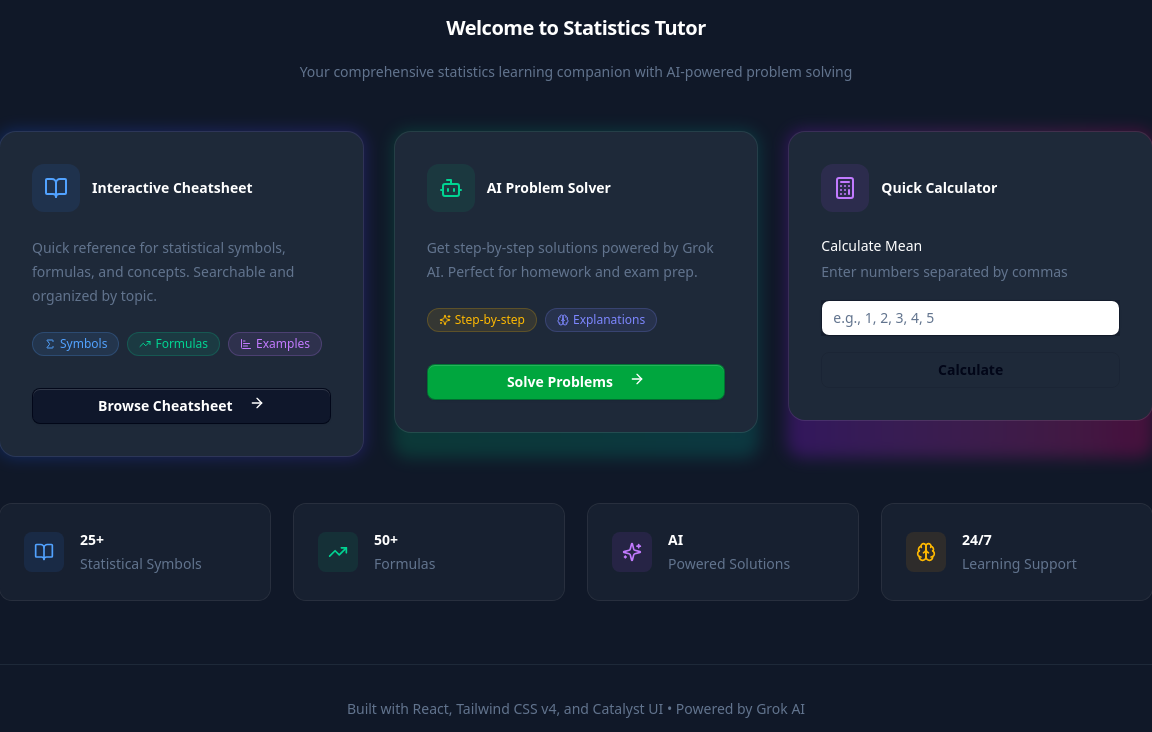
HomePage (unit) › should calculate mean correctly
Step 1. Type "2,4,6,8,10" into the field with placeholder "e.g., 1, 2, 3, 4, 5" → (971, 318), box x1=821 y1=300 x2=1120 y2=336
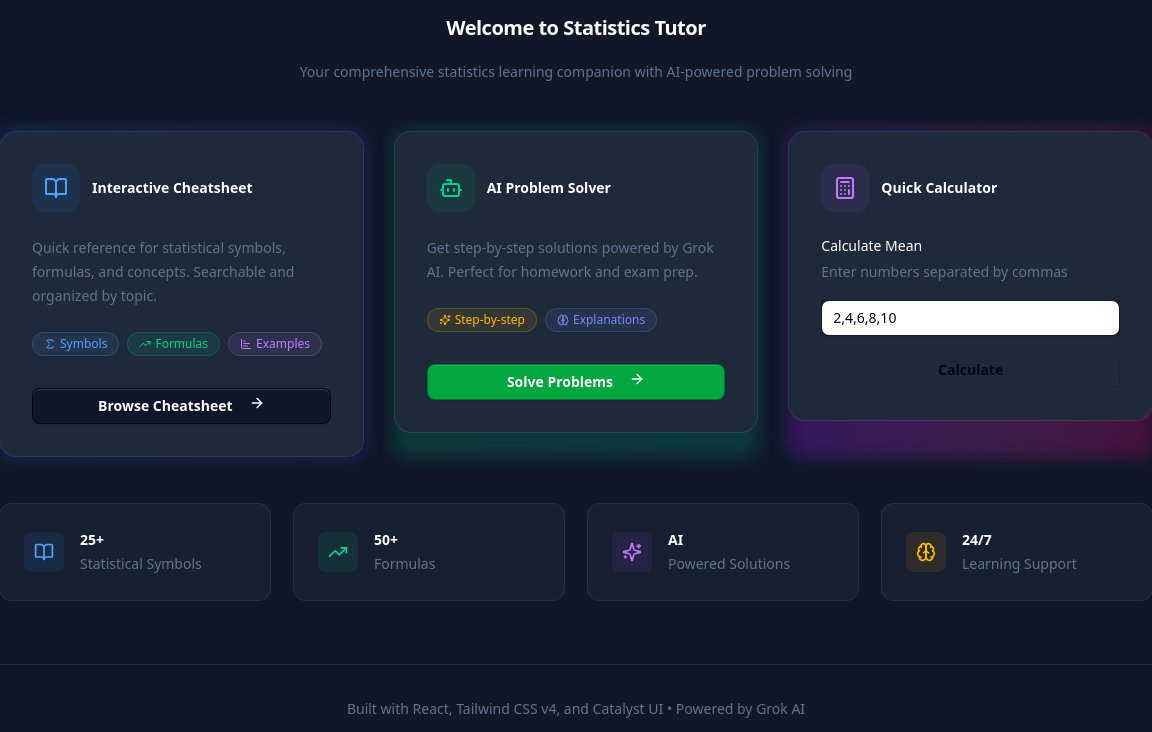
Step 2. Click the button "Calculate" → (971, 370), box x1=821 y1=352 x2=1120 y2=388
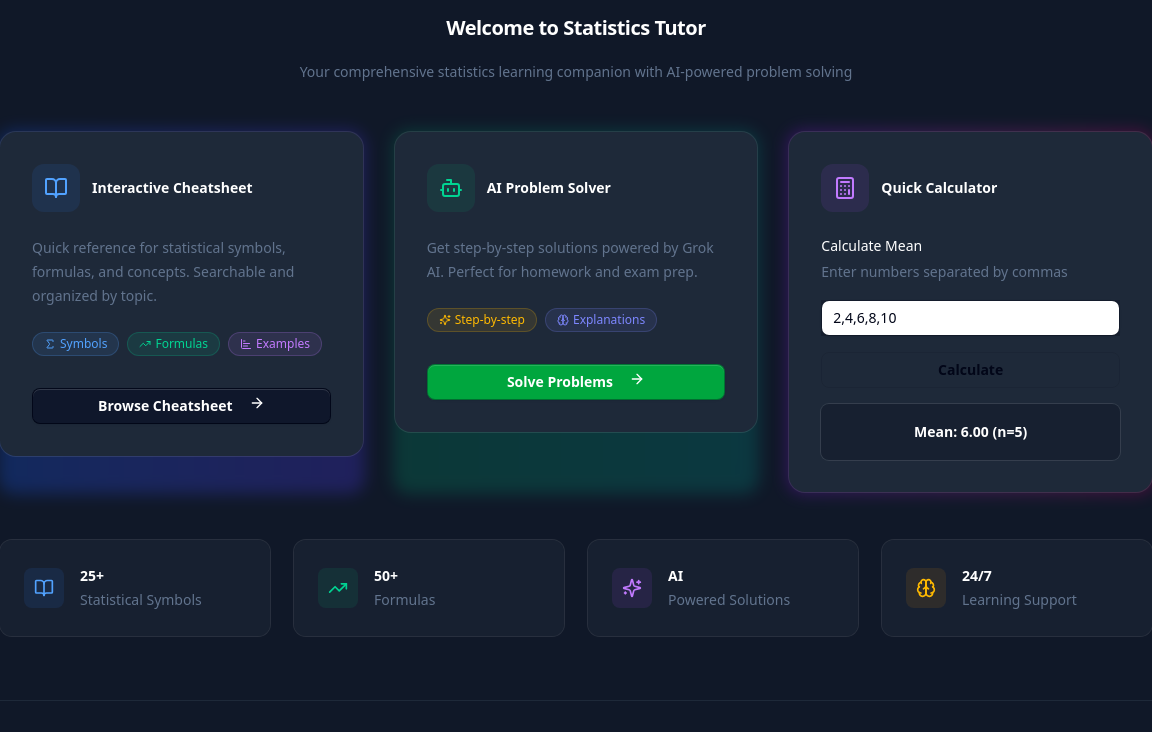
Expected: the text "Mean: 6.00 (n=5)" is shown, x1=914 y1=422 x2=1027 y2=441
